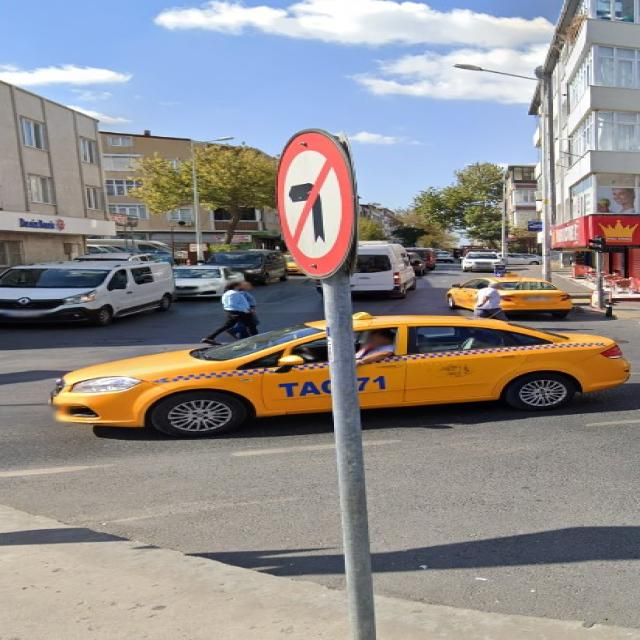soladonulmez: (274, 128, 354, 279)
